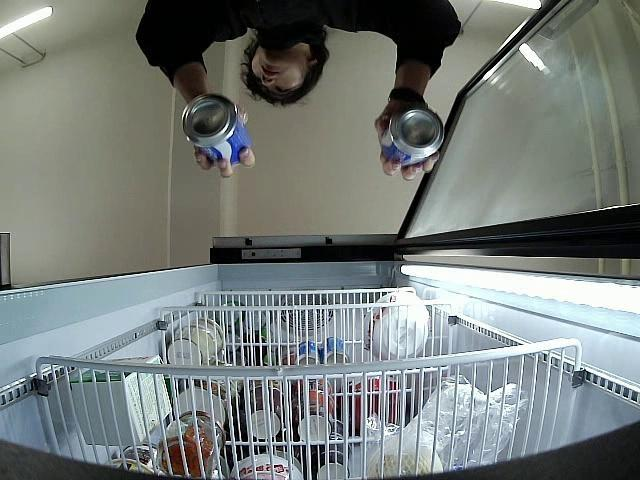13_pocariSweat: (182, 94, 251, 162), (382, 110, 445, 168)
